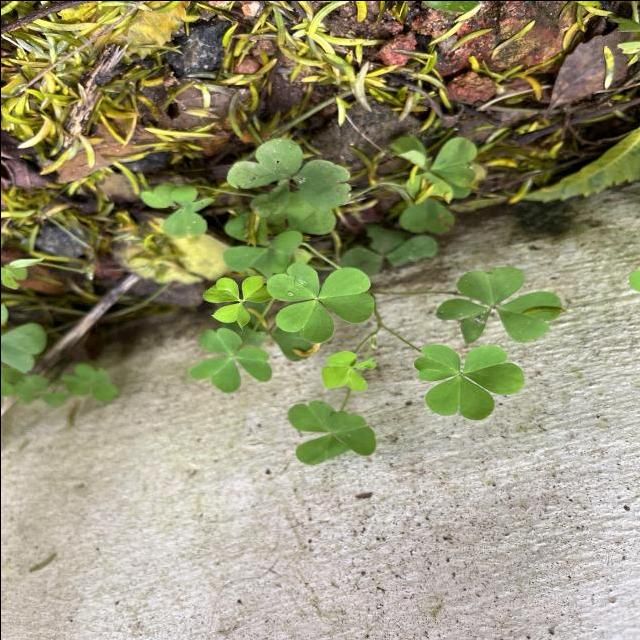Oxalis corniculata: (224, 136, 352, 218), (435, 265, 563, 343), (264, 260, 376, 344), (411, 342, 525, 421), (286, 398, 376, 466), (186, 326, 272, 394), (139, 182, 215, 238), (200, 274, 272, 330), (320, 349, 378, 392)
